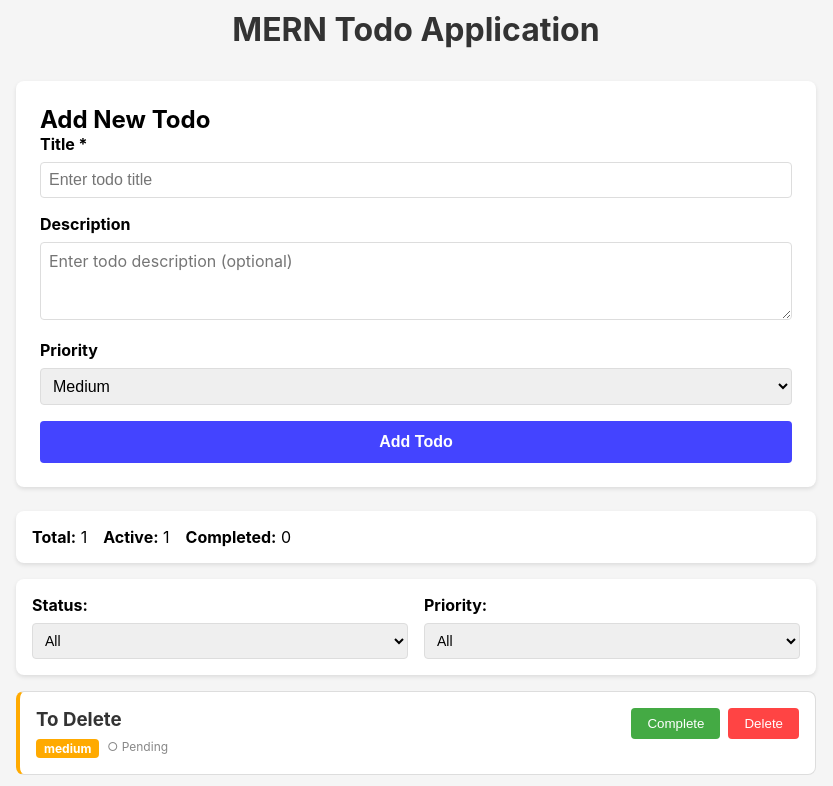
Test: Todo App Integration Tests › deletes a todo
Expected: the heading "To Delete" is shown, 36,708 -> 122,731
What coordinates should you click on to do the following:
click the button with test id "delete-button"
I would click on:
 (764, 724)
Its box is 728,708 -> 799,739.
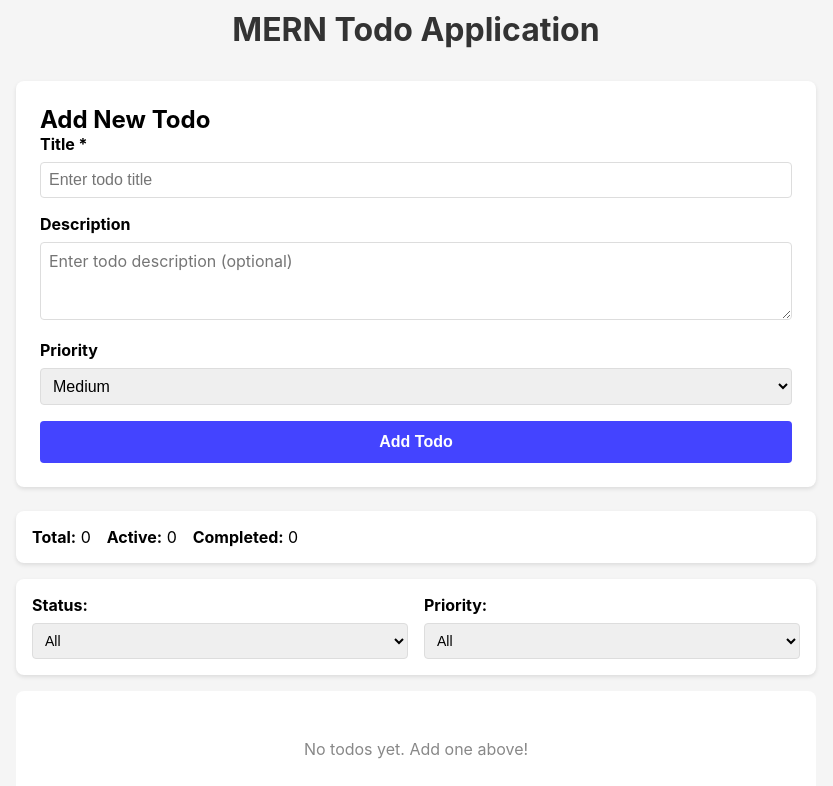
Result: the heading "To Delete" is gone
